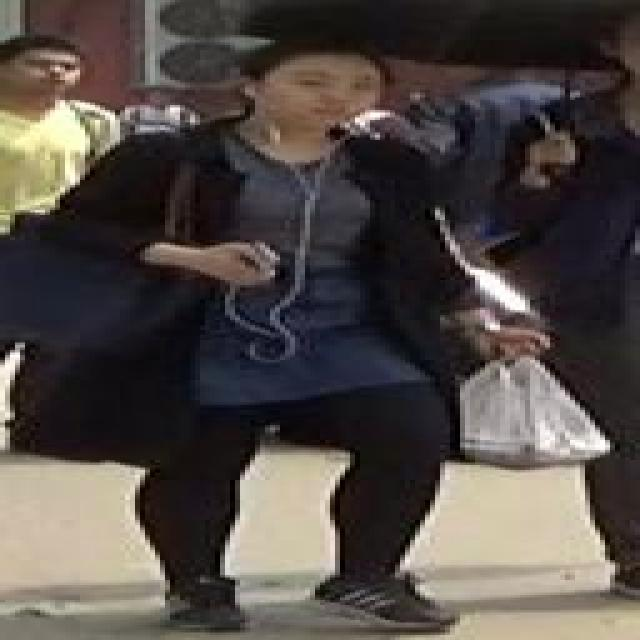adult: (105, 50, 522, 639), (513, 24, 640, 594), (0, 37, 130, 282)
